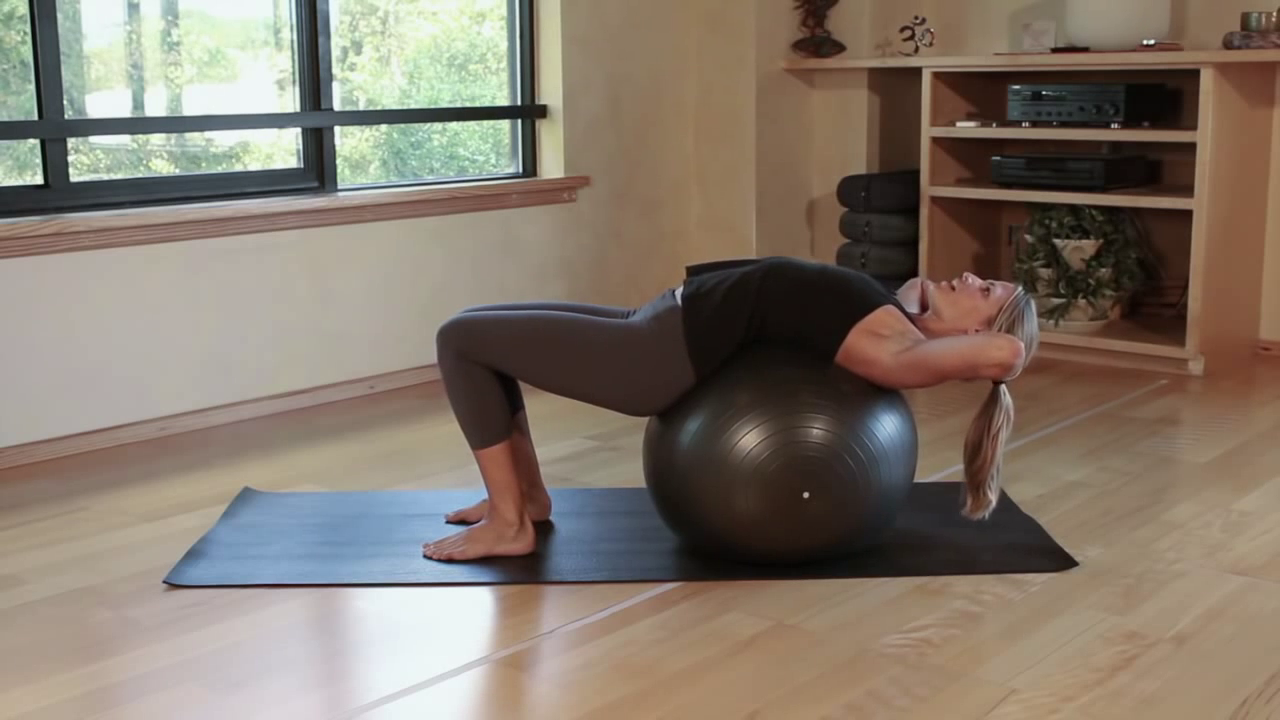yogaball: (630, 335, 928, 566)
